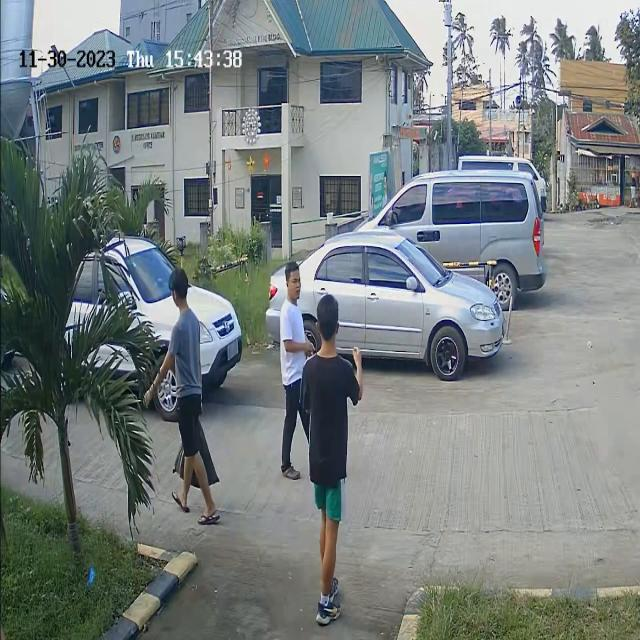person: (164, 269, 207, 420), (304, 299, 348, 405), (278, 264, 308, 376)
